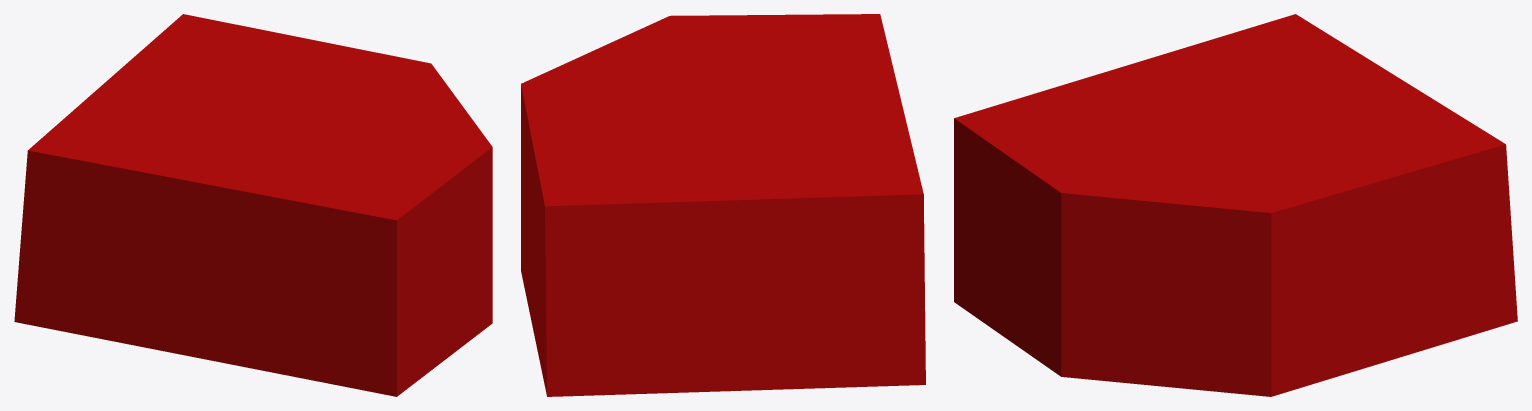
Rendered from s_ruin_rubble_2.glb.
3 renders of one model, left to right at view 1: azimuth 30°, elevation 25°; view 2: azimuth 150°, elevation 25°; view 3: azimuth 270°, elevation 25°, orthographic. The views are drawn at different scales.
Parts seen in each view (by area): view 1: MODEL_s_ruin_rubble_2; view 2: MODEL_s_ruin_rubble_2; view 3: MODEL_s_ruin_rubble_2.
Boxes of the visible parts, x1,y1,x2,y2 form: MODEL_s_ruin_rubble_2: (14, 14, 492, 396); MODEL_s_ruin_rubble_2: (521, 14, 925, 396); MODEL_s_ruin_rubble_2: (954, 14, 1517, 396).
Bounding box in the file's own units: 0.3823 × 0.1614 × 0.4486.
